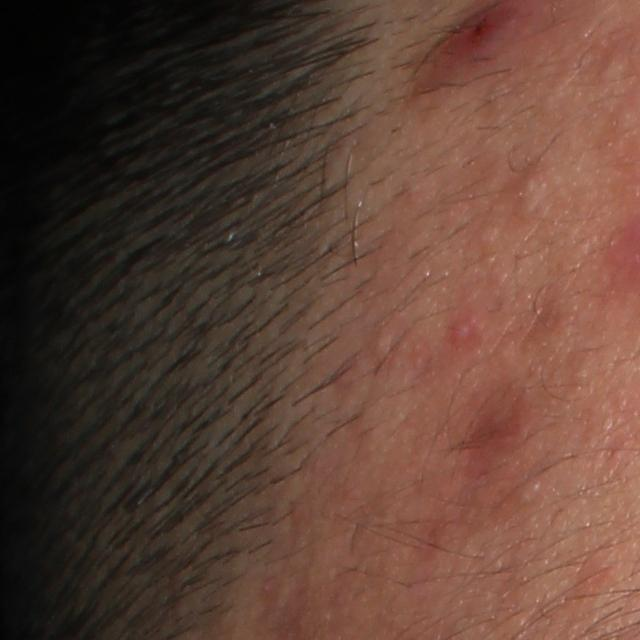papule: (445, 317, 470, 347)
